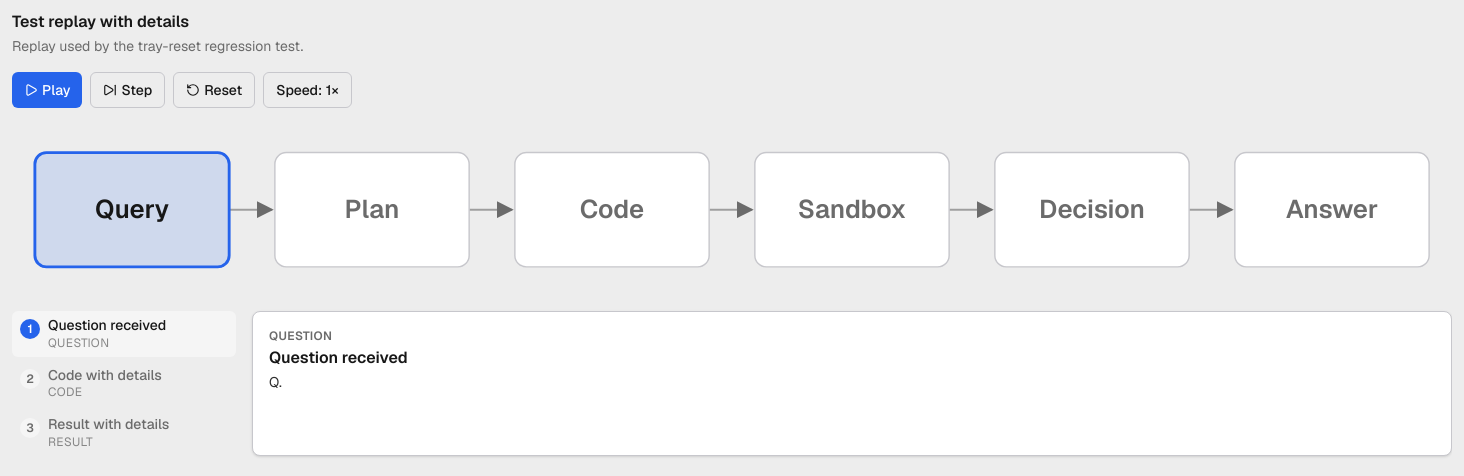
ReplayWalkthrough › in-pane Advanced section only renders when the step has details
Check: the button "Show advanced details" is not shown
Click the button "2 Code with details code" at (124,384), box [12,361,236,406]
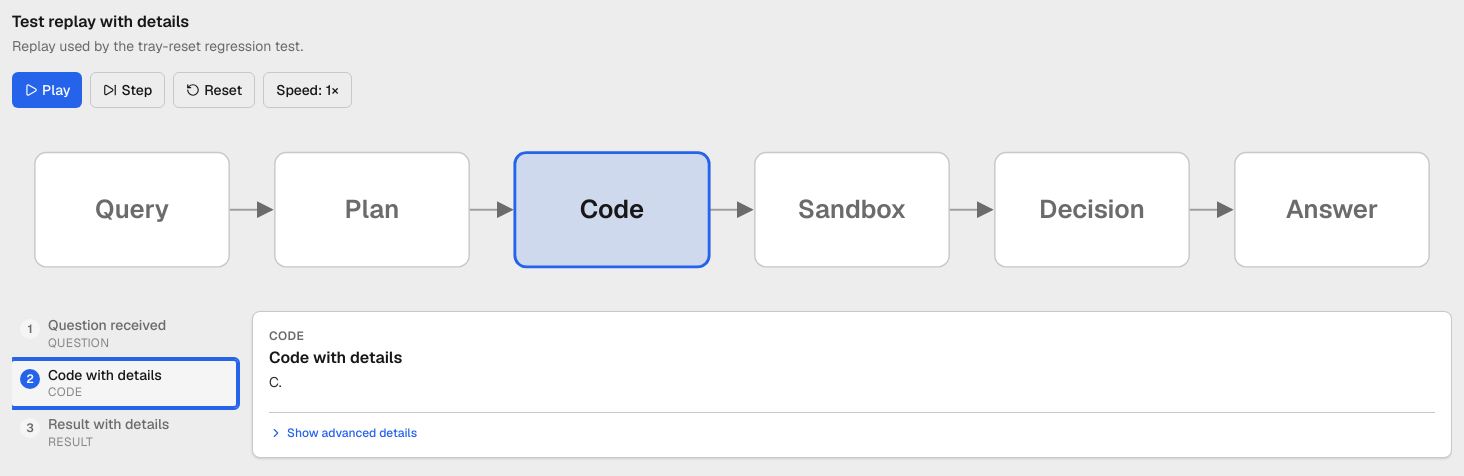
Check: the button "Show advanced details" is shown, box [269,425,417,441]
